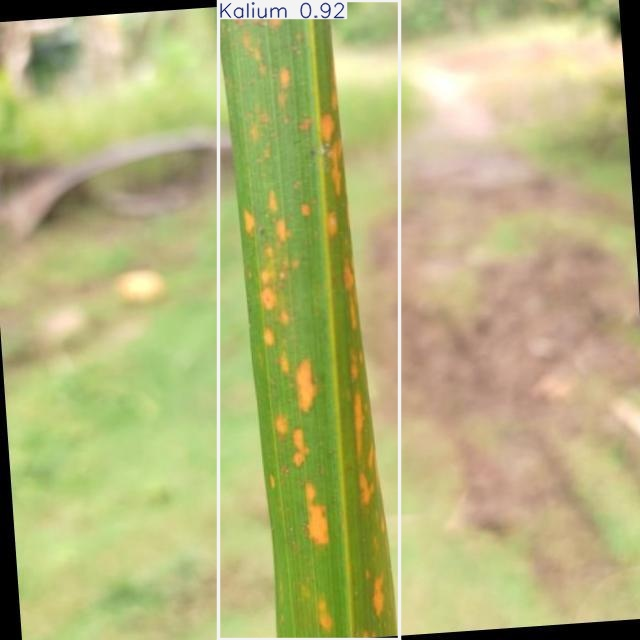Kalium: (219, 1, 399, 640)
